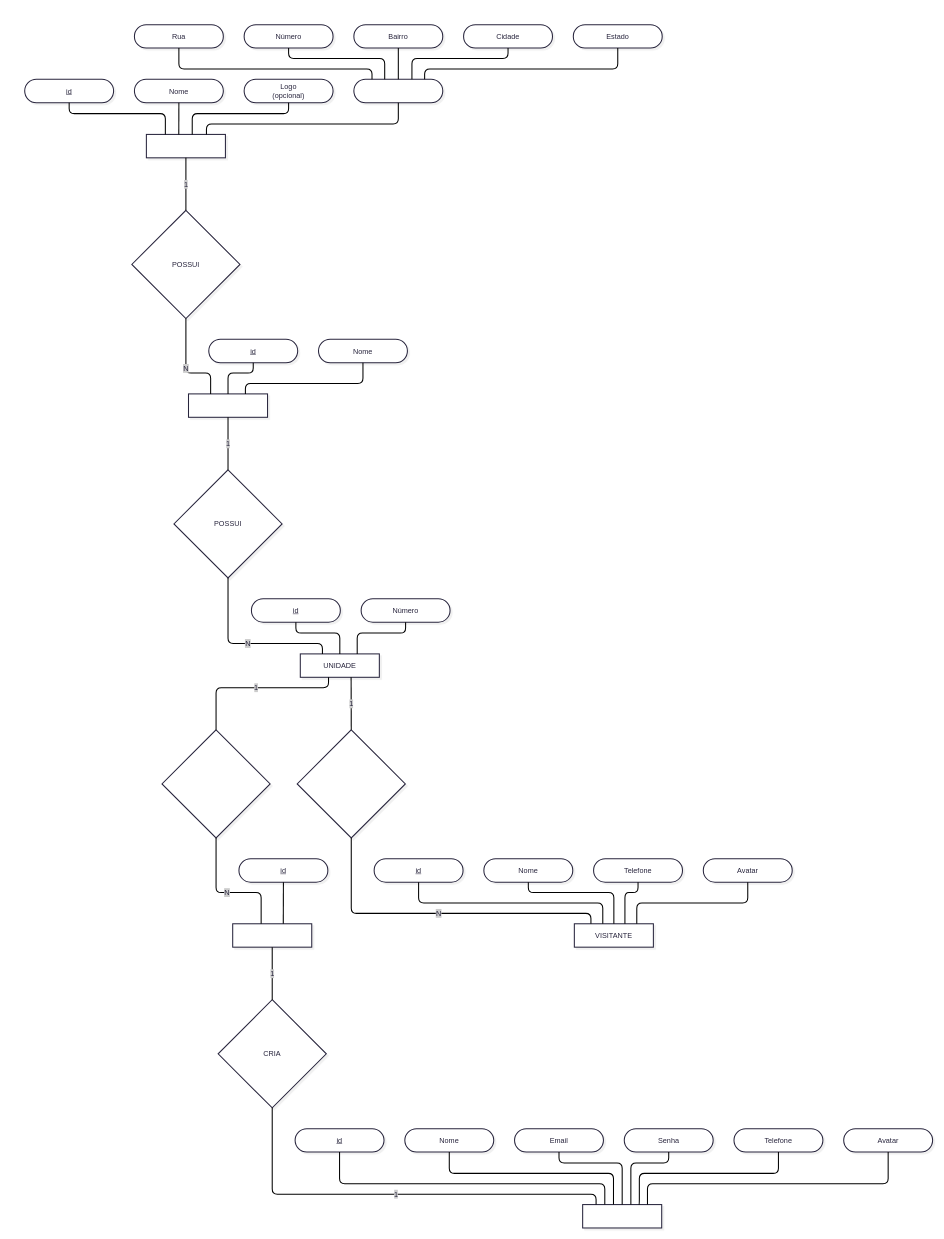
Image size: 944x1239. Some labels were removed from this diagram. Here are the shapes that lost their labels. From the top down, the centre of each, then its label:
point (399, 92): Endereço
point (187, 147): CONDOMÍNO
point (229, 406): BLOCO
point (216, 784): ABRIGA
point (352, 784): RECEBE
point (273, 936): MORADOR
point (623, 1217): USUÁRIO
